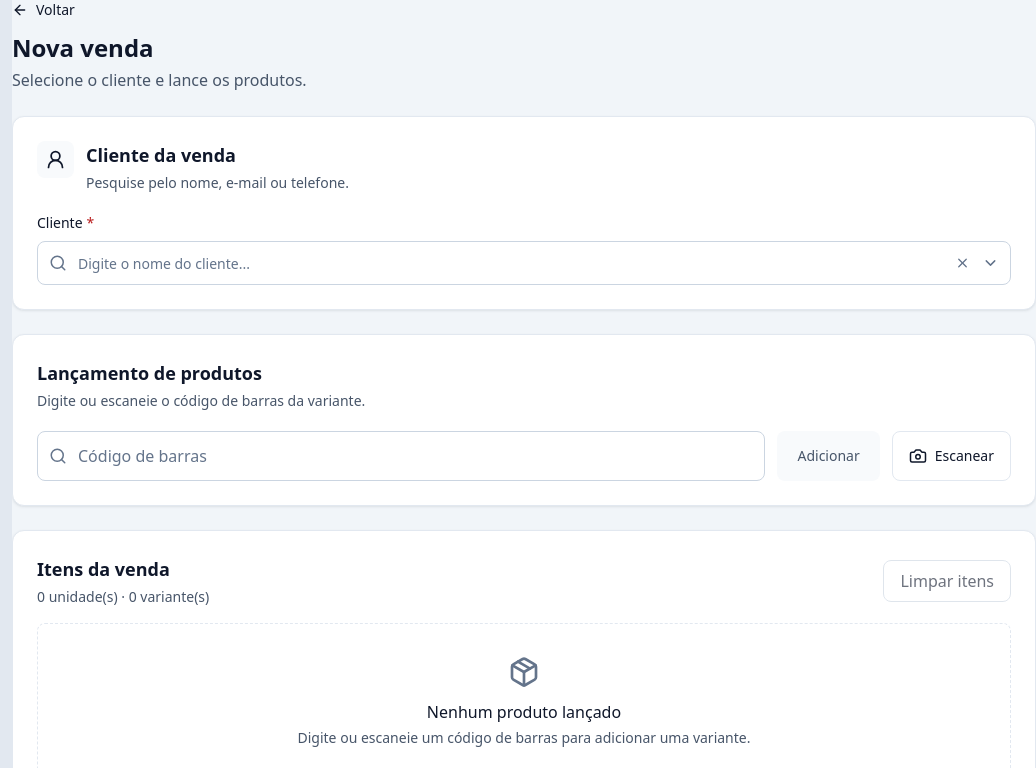
Test: SaleCreatePage › erro do backend aparece uma única vez
In the dropdown with placeholder "Digite o nome do cliente...": (524, 263) x1=37 y1=241 x2=1011 y2=285, type "Mar"
(page scrolled)
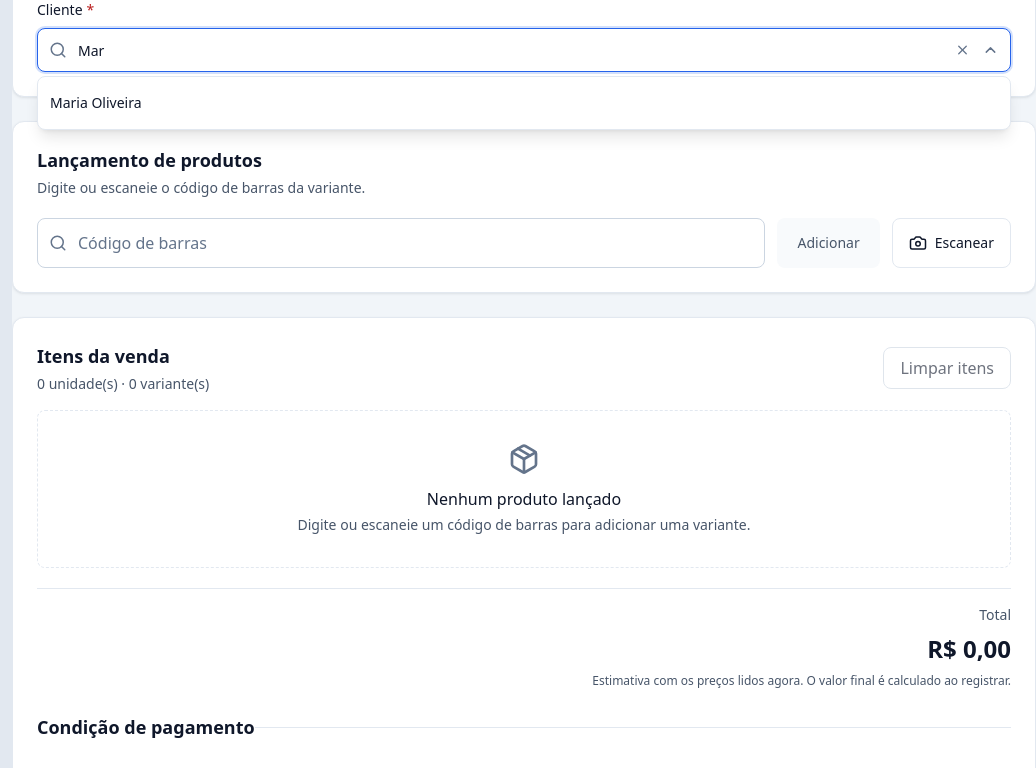
Click the button "Maria Oliveira": (96, 102) x1=38 y1=81 x2=1010 y2=125
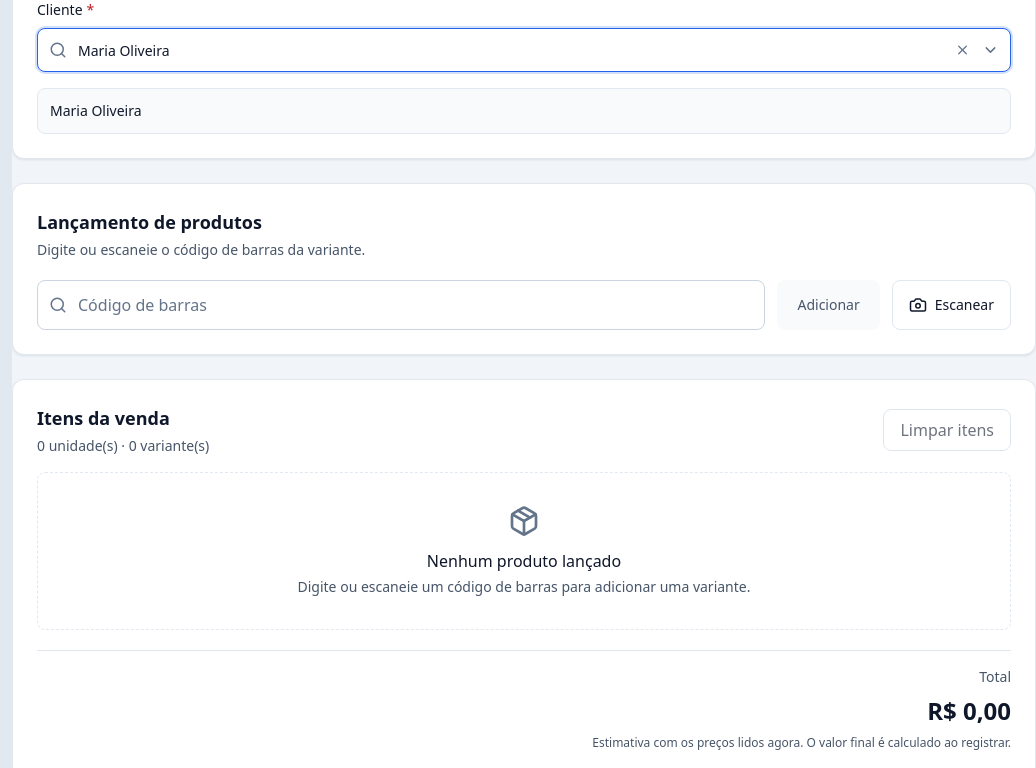
In the field named "Código de barras do produto": (401, 305) x1=37 y1=280 x2=766 y2=330, type "111"
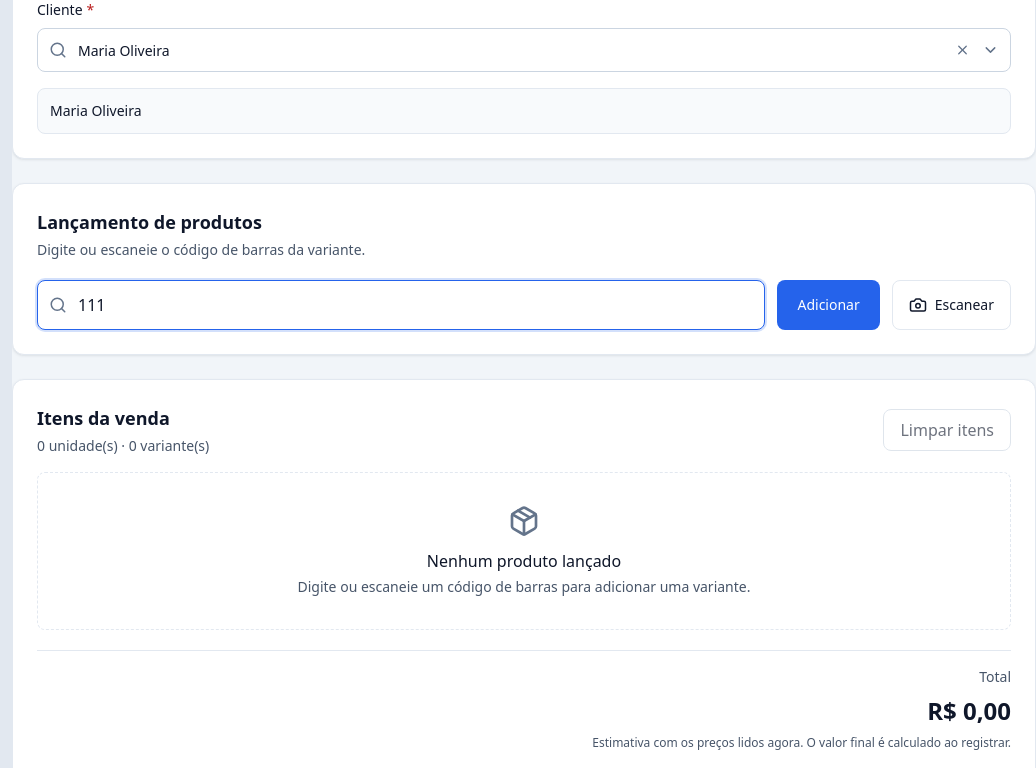
Click the button "Adicionar": (829, 305) x1=778 y1=280 x2=880 y2=330
(page scrolled)
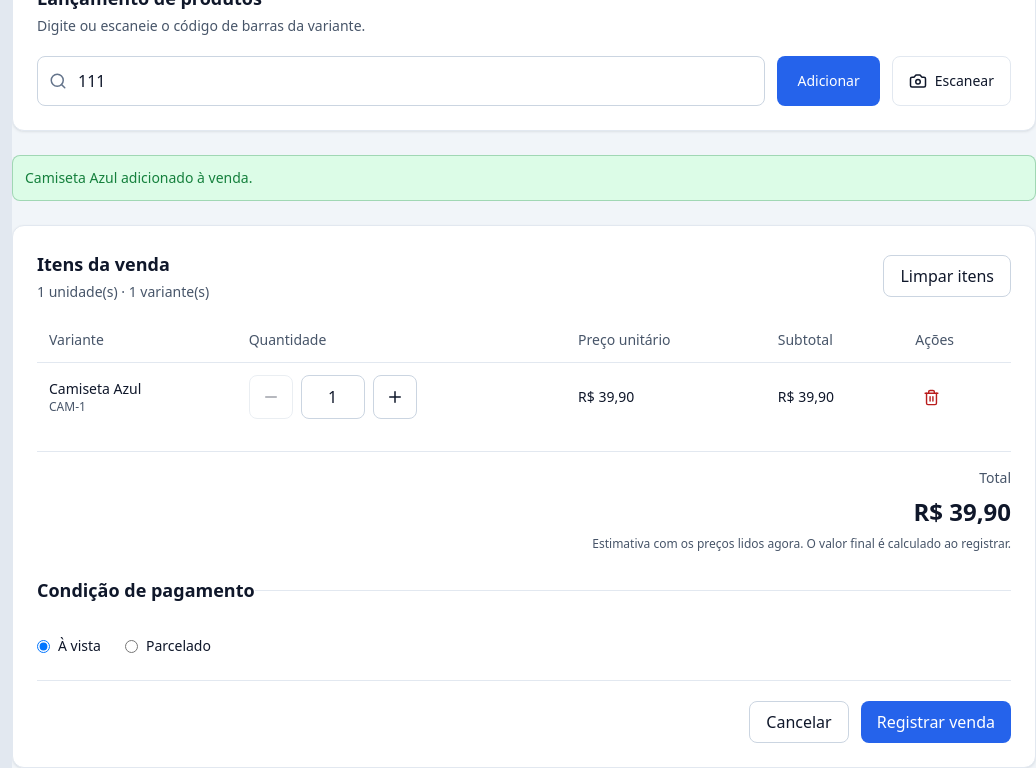
Result: the field named "Quantidade de Camiseta Azul" is shown at x1=301 y1=375 x2=365 y2=419
Click the button "Registrar venda": (936, 722) x1=861 y1=701 x2=1011 y2=743
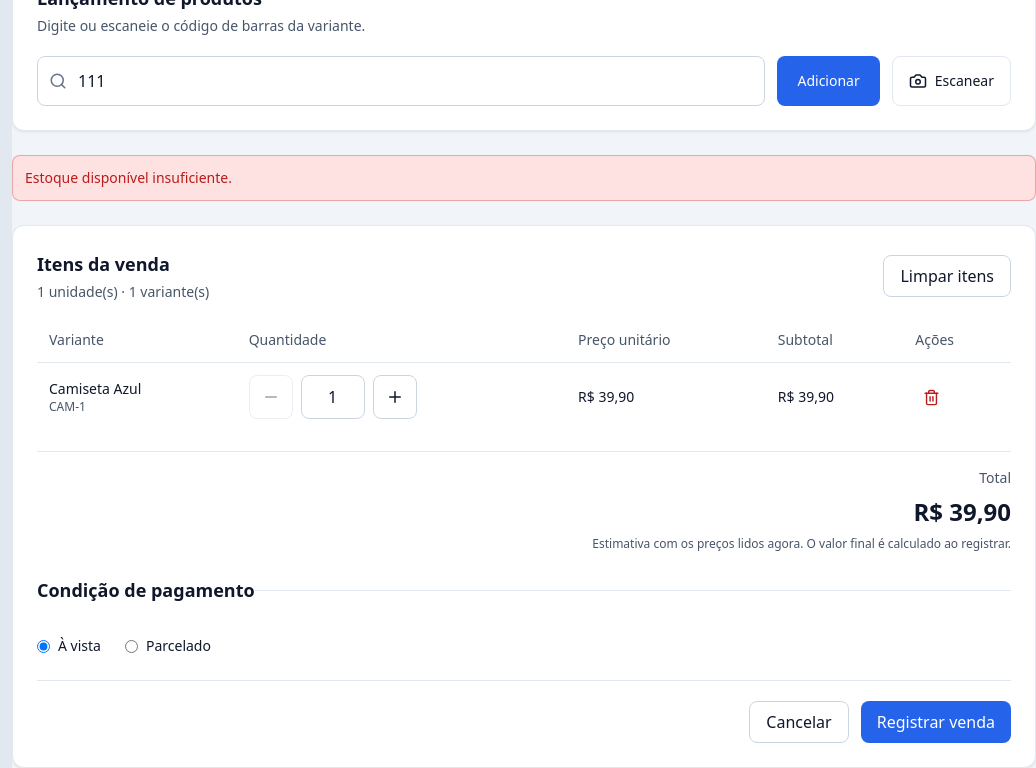
Result: the text "Estoque disponível insuficiente." is shown once at x1=12 y1=155 x2=1035 y2=201
